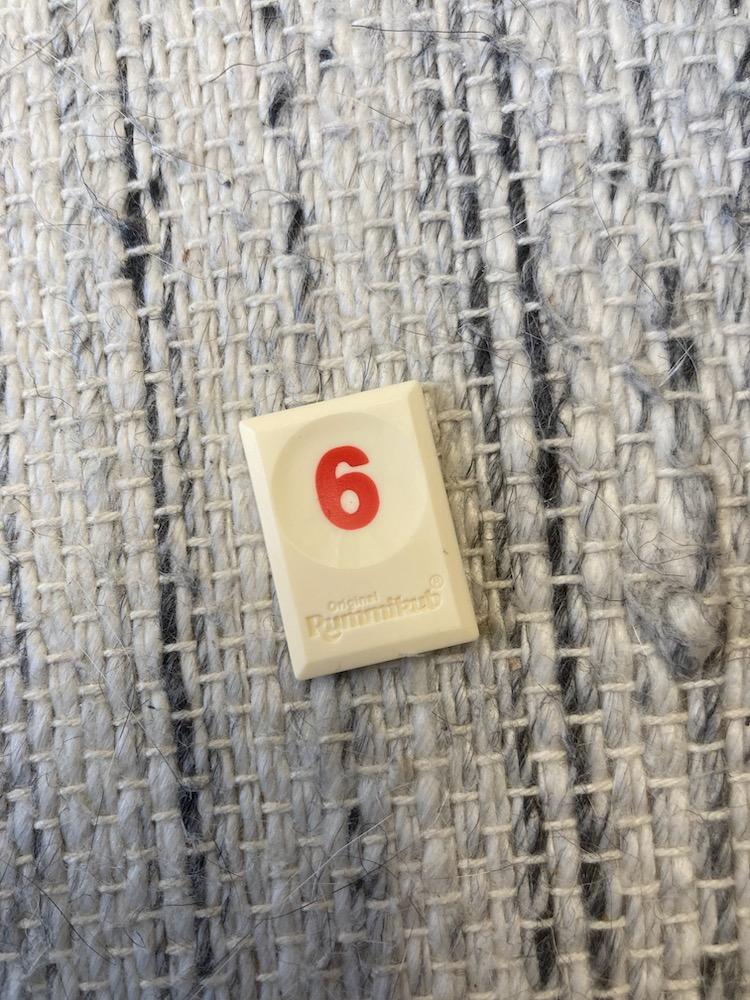red_6: (240, 381, 479, 680)
